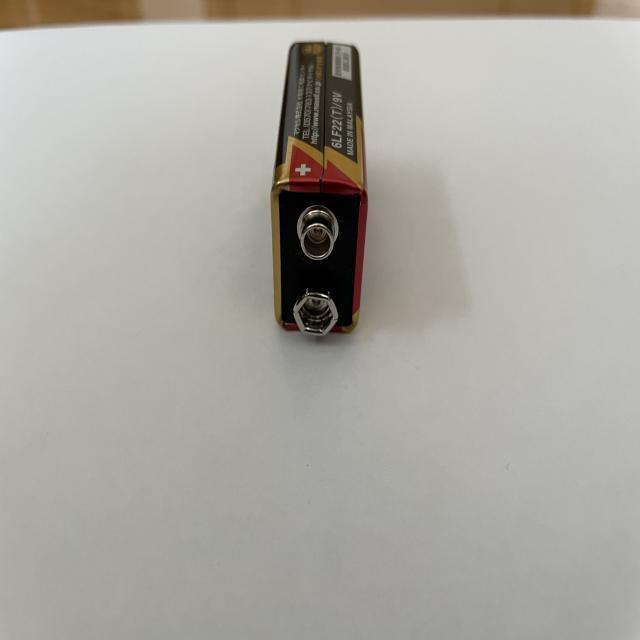9V: (270, 40, 368, 337)
